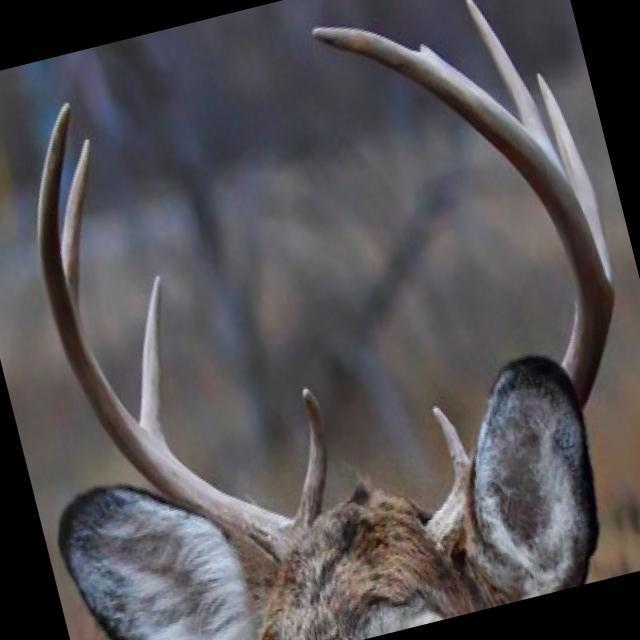L-G1: (432, 404, 471, 478)
L-G2: (533, 67, 616, 293)
L-G3: (465, 0, 566, 173)
R-F: (37, 100, 309, 559)
R-G1: (295, 385, 328, 528)
R-G2: (139, 274, 167, 446)
